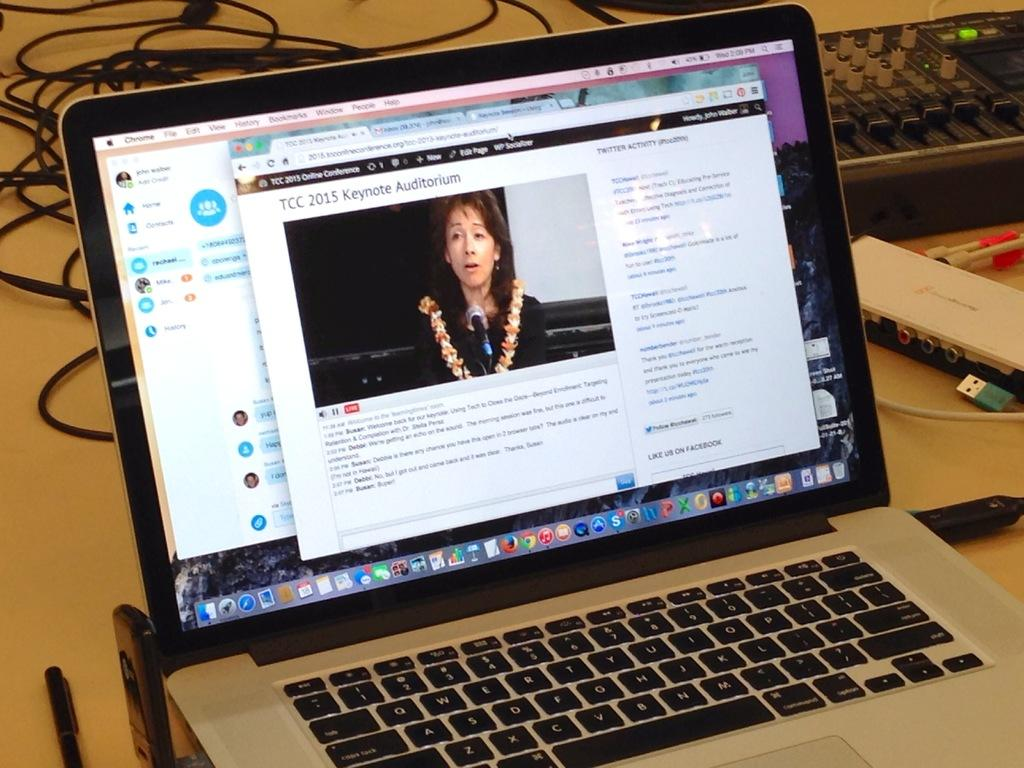Computer-keyboard: (280, 546, 991, 767)
Computer-monitor: (58, 3, 890, 678)
Laptop: (44, 40, 989, 768)
